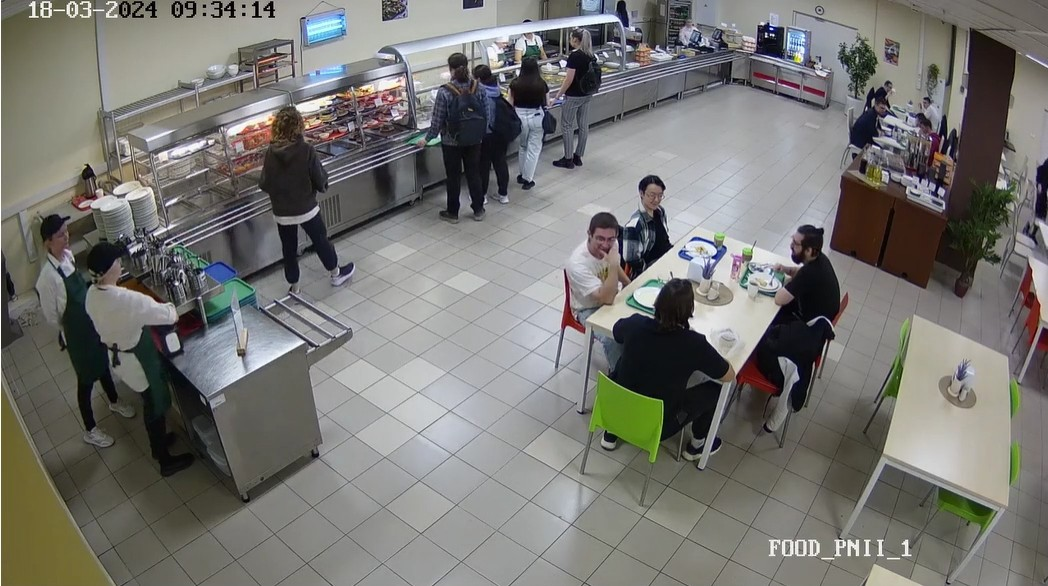Ne_v_Ocheredi: (1018, 148, 1048, 239)
Personal: (60, 233, 297, 515), (31, 207, 128, 451), (603, 0, 639, 39), (512, 14, 539, 65), (484, 27, 514, 72), (677, 11, 701, 47)
Vybiraet: (259, 93, 337, 302), (426, 49, 482, 231), (467, 68, 519, 213), (552, 23, 599, 174), (513, 52, 545, 188)
Za_Stolom: (571, 281, 737, 497), (548, 199, 634, 364), (769, 215, 837, 317), (623, 164, 679, 273), (848, 89, 887, 158), (906, 119, 944, 159), (872, 70, 910, 104), (917, 89, 942, 123)
